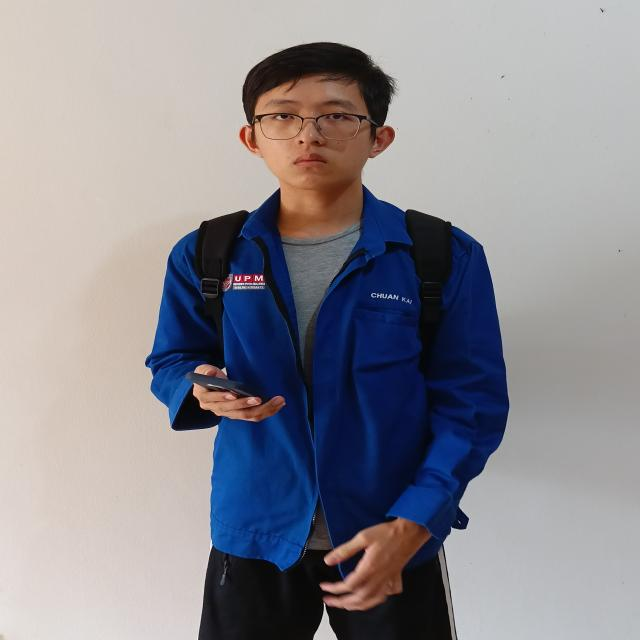person_with_labcoat: (146, 43, 508, 640)
